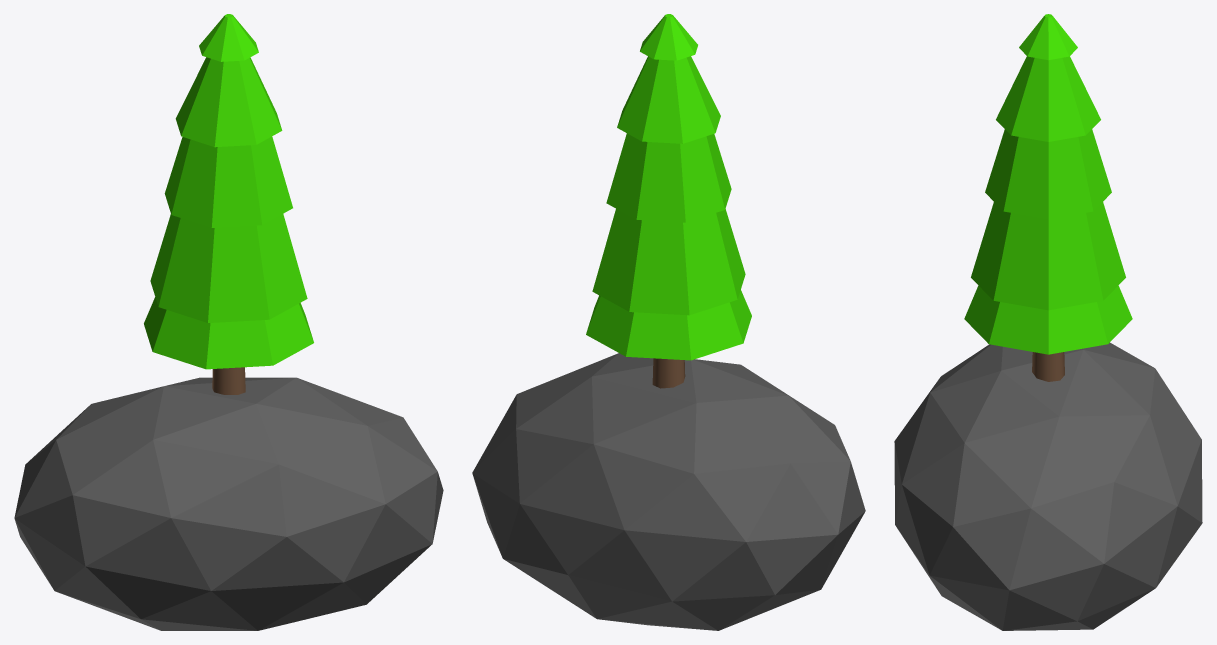
The model's file is Biyom_Mavi (2).fbx.
3 views of the same model, side by side, from view 1: azimuth 30°, elevation 25°; view 2: azimuth 150°, elevation 25°; view 3: azimuth 270°, elevation 25° (orthographic). The views are drawn at different scales.
Parts seen in each view (by area): view 1: Mavi_Kaya, Mavi_Agac_1, Mavi_Agac_3; view 2: Mavi_Kaya, Mavi_Agac_1, Mavi_Agac_3; view 3: Mavi_Kaya, Mavi_Agac_3.
Part boxes in pixels (<box>): Mavi_Kaya: <box>14,377,443,630</box>; Mavi_Agac_1: <box>144,14,272,394</box>; Mavi_Agac_3: <box>225,14,313,394</box>; Mavi_Kaya: <box>472,353,865,630</box>; Mavi_Agac_1: <box>626,14,751,388</box>; Mavi_Agac_3: <box>586,14,672,388</box>; Mavi_Kaya: <box>894,342,1202,630</box>; Mavi_Agac_3: <box>964,14,1132,381</box>.
Bounding box in the file's own units: 2.87 × 4.29 × 2.07.
